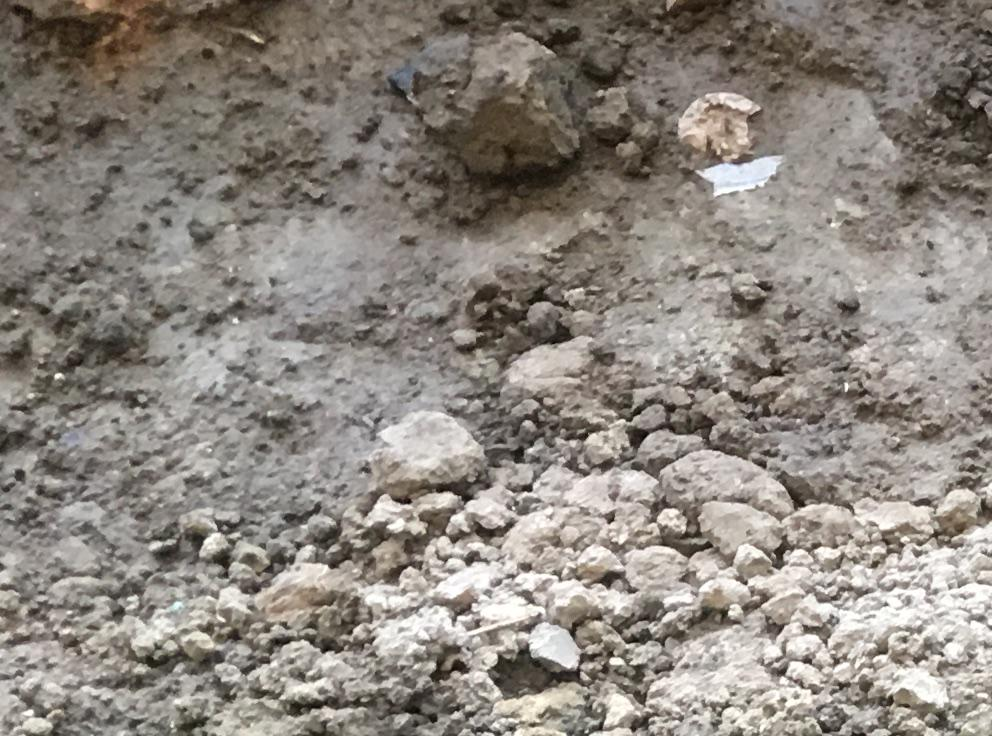block: (399, 35, 572, 176), (374, 412, 479, 492)
